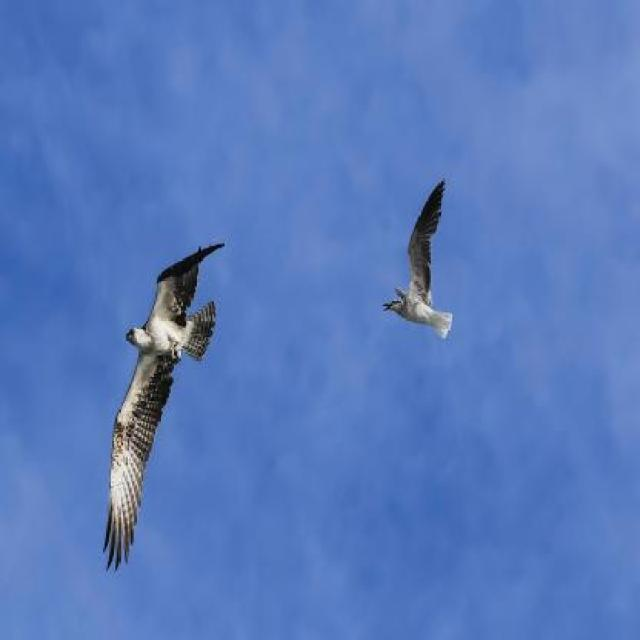bird: (103, 243, 226, 574), (382, 178, 453, 339)
